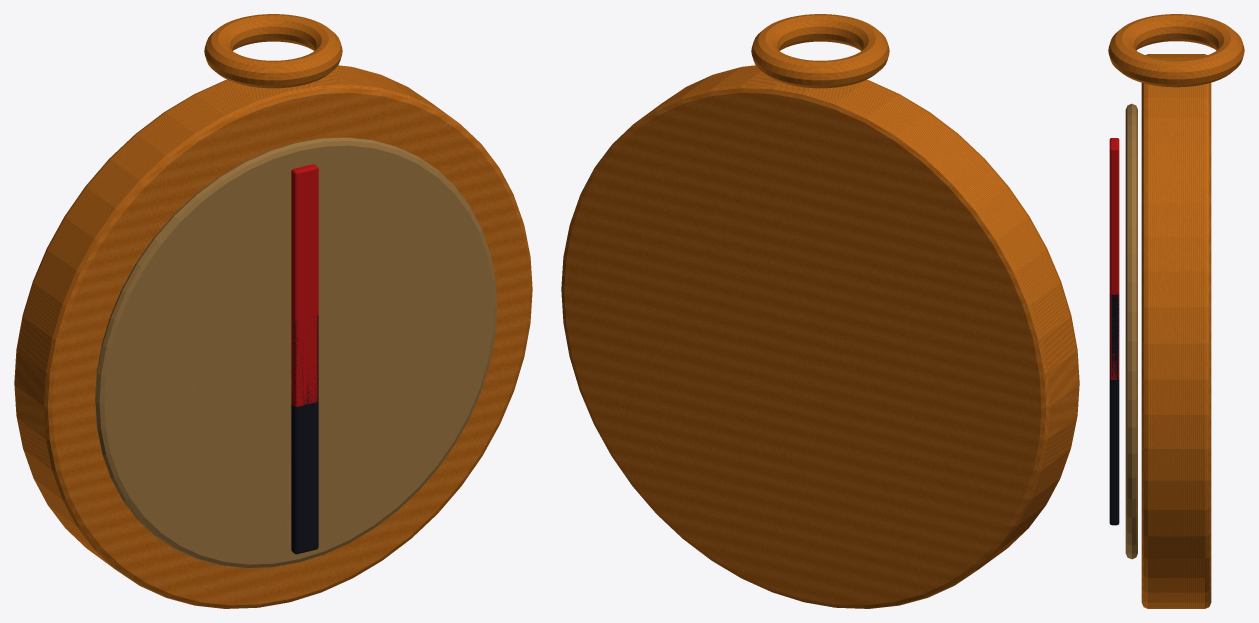
Rendered from boussole-ancienne.glb.
3 renders of one model, left to right at view 1: azimuth 30°, elevation 25°; view 2: azimuth 150°, elevation 25°; view 3: azimuth 270°, elevation 25°, orthographic.
Parts seen in each view (by area): view 1: Cadran, Boitier, Anneau, Aiguille N, Aiguille S; view 2: Boitier, Anneau; view 3: Boitier, Anneau, Cadran, Aiguille S, Aiguille N.
Part boxes in pixels (x1,y1,x2,y2): Cadran: [95, 137, 497, 567]; Boitier: [14, 65, 532, 608]; Anneau: [204, 14, 342, 88]; Aiguille N: [291, 164, 318, 406]; Aiguille S: [291, 315, 318, 554]; Boitier: [561, 65, 1079, 608]; Anneau: [751, 14, 889, 88]; Boitier: [1141, 54, 1211, 608]; Anneau: [1108, 14, 1244, 87]; Cadran: [1125, 103, 1137, 559]; Aiguille S: [1109, 294, 1119, 525]; Aiguille N: [1109, 138, 1119, 379].
Bounding box in the file's own units: 2.24 × 2.43 × 0.55.
Materials: 4 (4 with a texture image).
